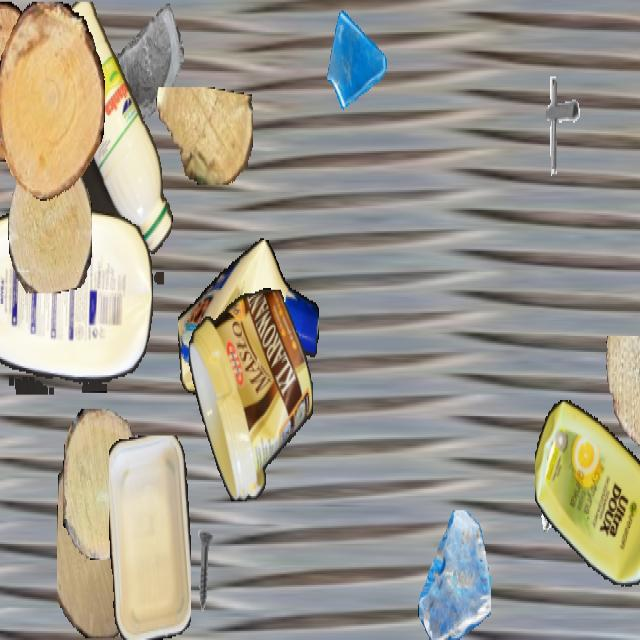glass: (418, 510, 490, 638), (112, 2, 184, 130), (325, 1, 389, 116)
metal: (528, 71, 588, 178), (122, 439, 182, 546), (180, 528, 228, 613), (535, 453, 581, 535), (627, 535, 640, 613)
plastic: (44, 1, 174, 282), (0, 210, 152, 394), (188, 288, 312, 501), (178, 237, 318, 407), (535, 393, 640, 599), (109, 436, 191, 638)
wood: (0, 2, 104, 201), (57, 439, 145, 638), (8, 150, 92, 292), (63, 409, 143, 558), (155, 87, 253, 183), (0, 2, 42, 162), (603, 336, 640, 450)
